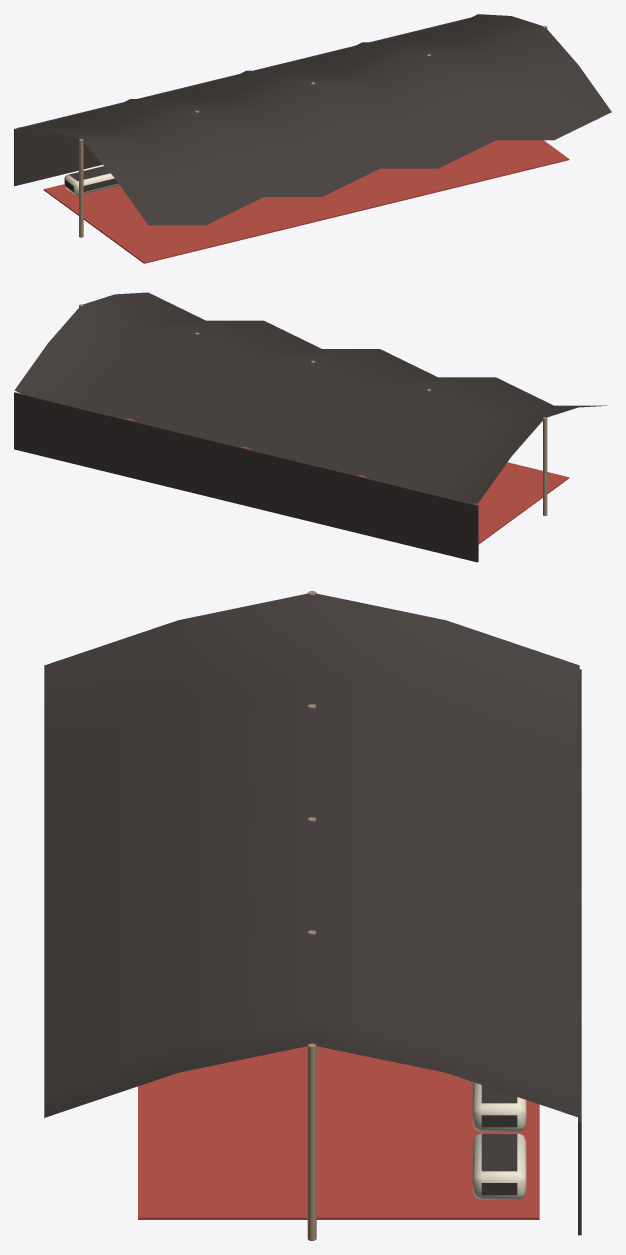
File: SM_BedouinTent.fbx
The picture shows the model from 3 angles, top to bottom: view 1: azimuth 30°, elevation 25°; view 2: azimuth 150°, elevation 25°; view 3: azimuth 270°, elevation 25°; orthographic projection. The views are drawn at different scales.
Parts seen in each view (by area): view 1: SM_BedouinTent; view 2: SM_BedouinTent; view 3: SM_BedouinTent.
Boxes of the visible parts, x1,y1,x2,y2 form: SM_BedouinTent: (14,14,611,263); SM_BedouinTent: (14,292,607,562); SM_BedouinTent: (44,591,581,1240).
Size of the model in its own units: 1209 by 240 by 602.
